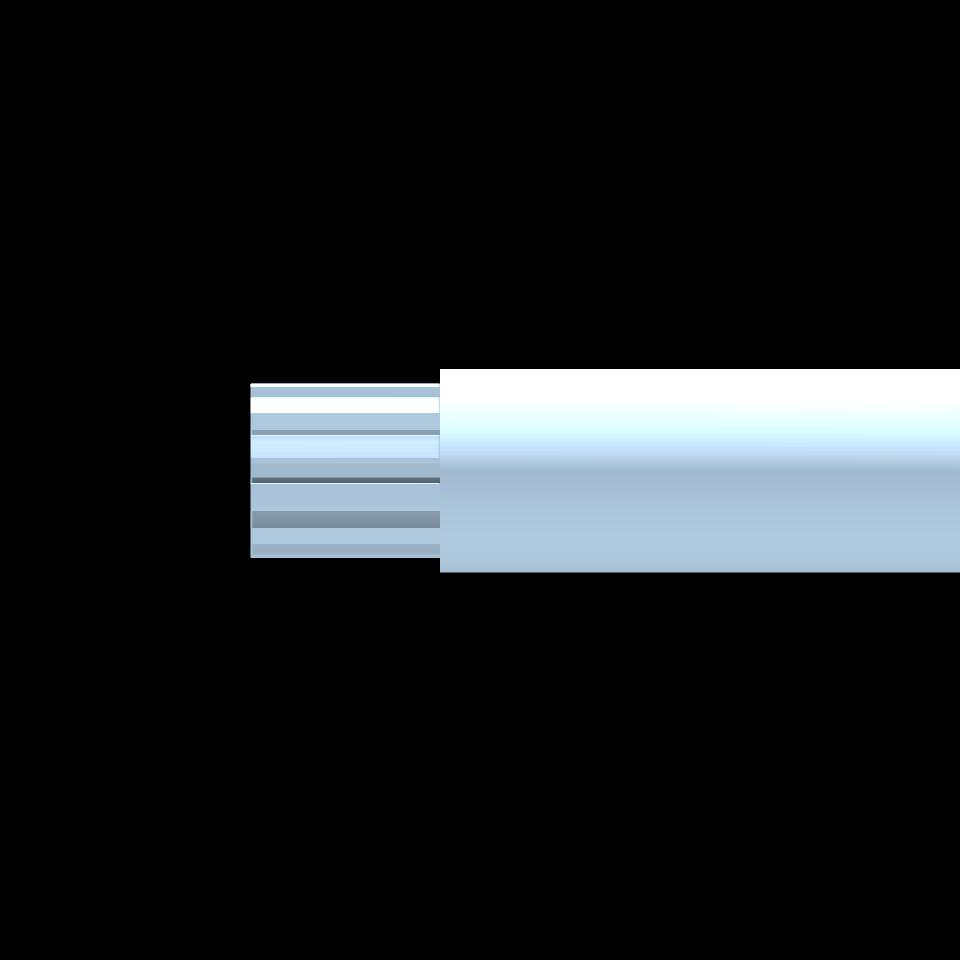Straight: (249, 383, 442, 557)
